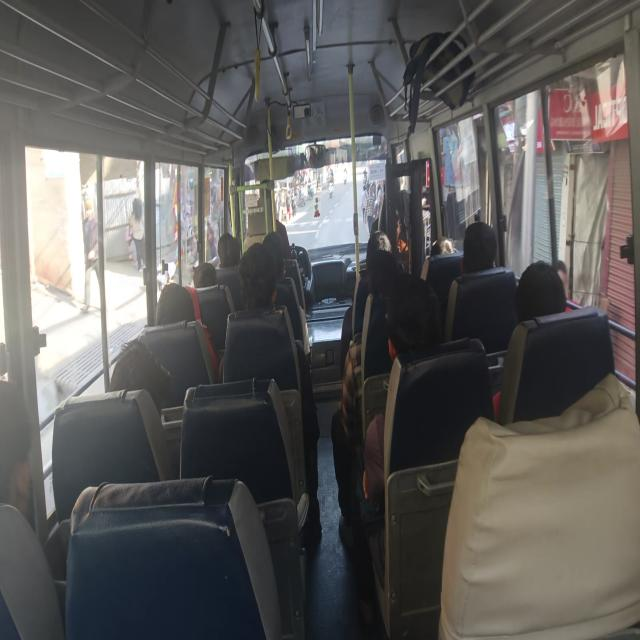person: (356, 270, 441, 626), (222, 242, 322, 542), (331, 233, 397, 546), (493, 259, 568, 422), (340, 230, 393, 375), (0, 378, 33, 521), (515, 259, 567, 323), (80, 198, 102, 313), (461, 221, 497, 274), (155, 282, 196, 325), (130, 198, 145, 271), (217, 232, 240, 267), (192, 261, 217, 288), (431, 236, 457, 255)
